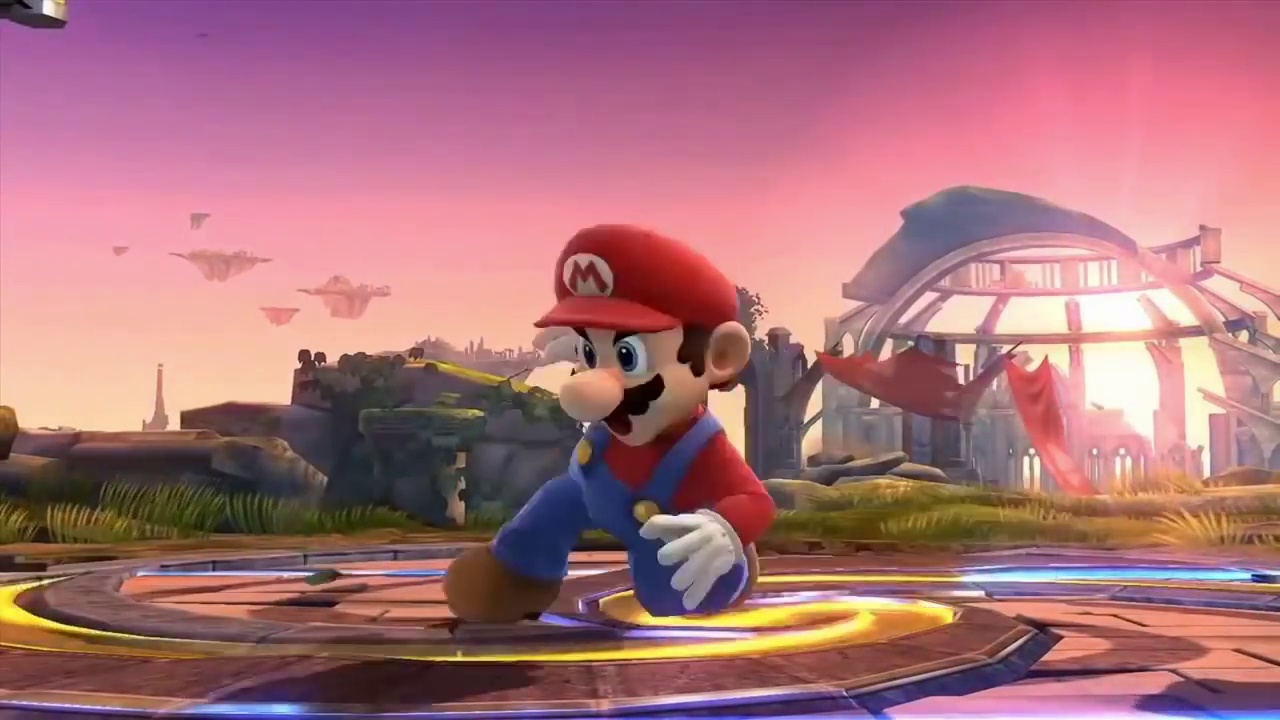Mario: (442, 224, 771, 620)
